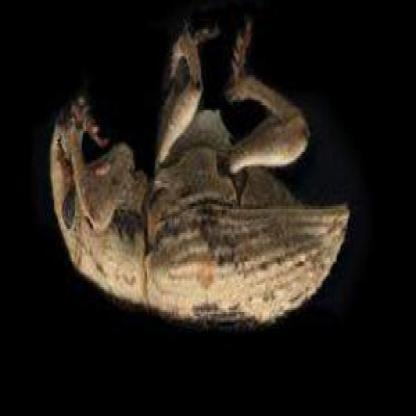rice-bug: (49, 18, 350, 325)
